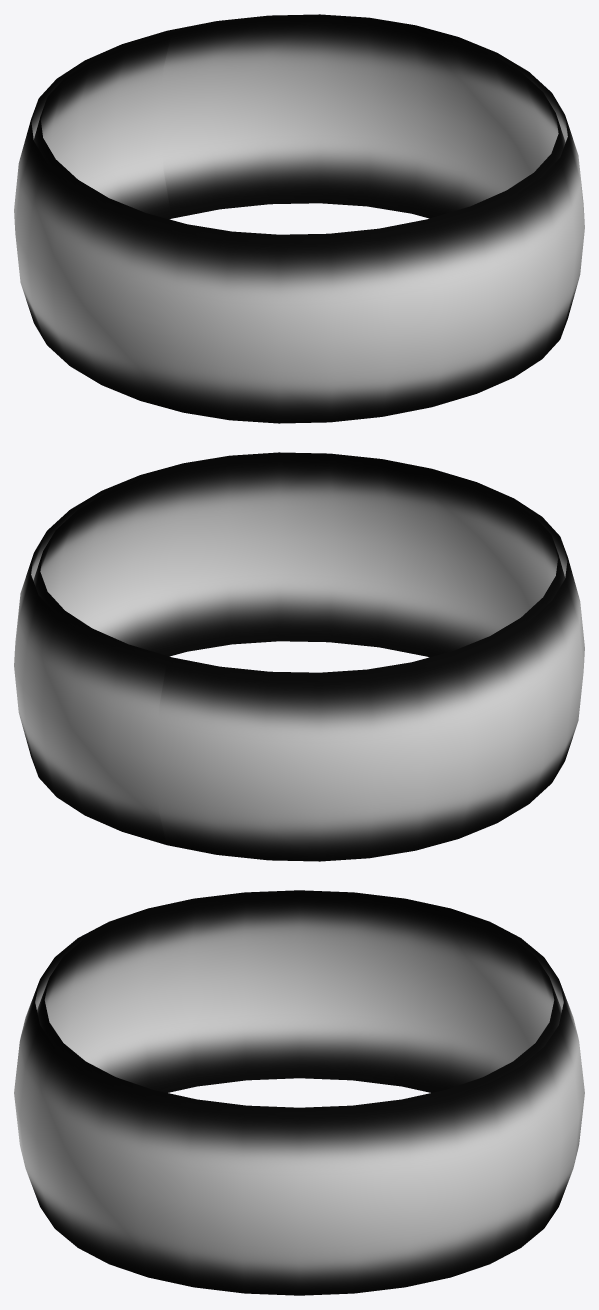
File: spinfx.fbx
The picture shows the model from 3 angles, top to bottom: view 1: azimuth 30°, elevation 25°; view 2: azimuth 150°, elevation 25°; view 3: azimuth 270°, elevation 25°; orthographic projection.
Visible parts, largest first — view 1: Spin fx mesh; view 2: Spin fx mesh; view 3: Spin fx mesh.
Part boxes in pixels (x1,y1,x2,y2): Spin fx mesh: [14, 14, 584, 423]; Spin fx mesh: [14, 452, 584, 861]; Spin fx mesh: [14, 890, 584, 1295].
Size of the model in its own units: 1.71 by 0.6199 by 1.71.
1 material, 1 textured.
